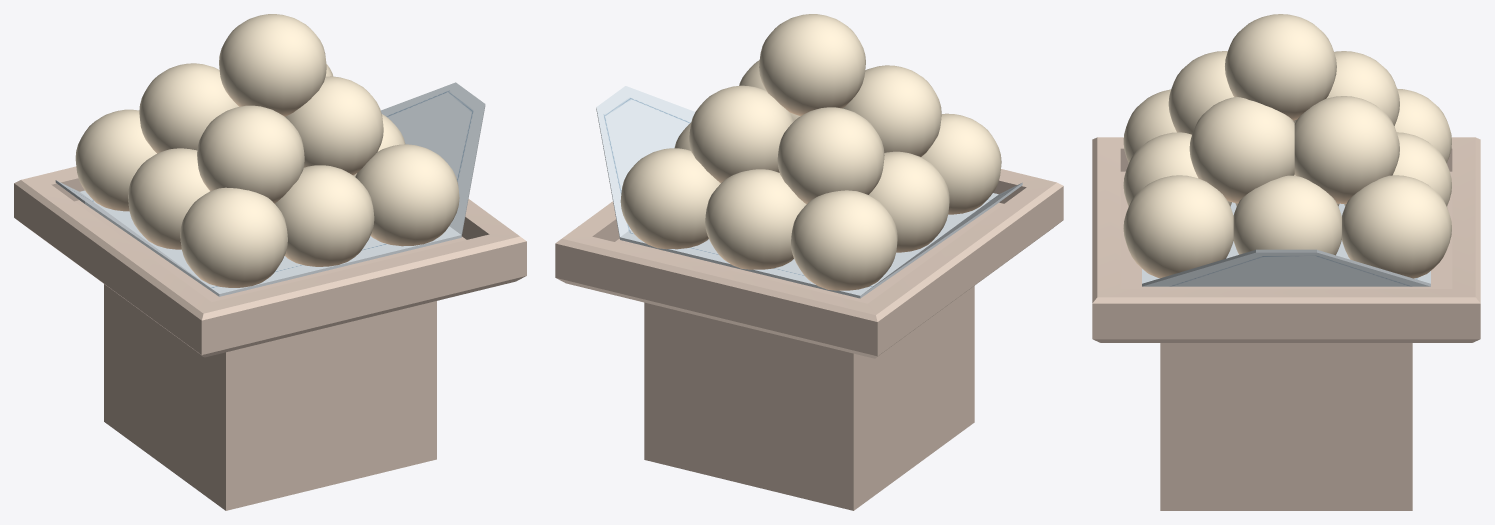
File: dango.fbx
3 renders of one model, left to right at view 1: azimuth 30°, elevation 25°; view 2: azimuth 150°, elevation 25°; view 3: azimuth 270°, elevation 25°, orthographic. The views are drawn at different scales.
Parts seen in each view (by area): view 1: pSphere3; view 2: pSphere3; view 3: pSphere3.
Part boxes in pixels (x1,y1,x2,y2): pSphere3: (14, 14, 526, 510); pSphere3: (555, 14, 1063, 510); pSphere3: (1092, 14, 1480, 510).
Bounding box in the file's own units: 7.06 × 7.14 × 5.74.
1 material, 1 textured.
